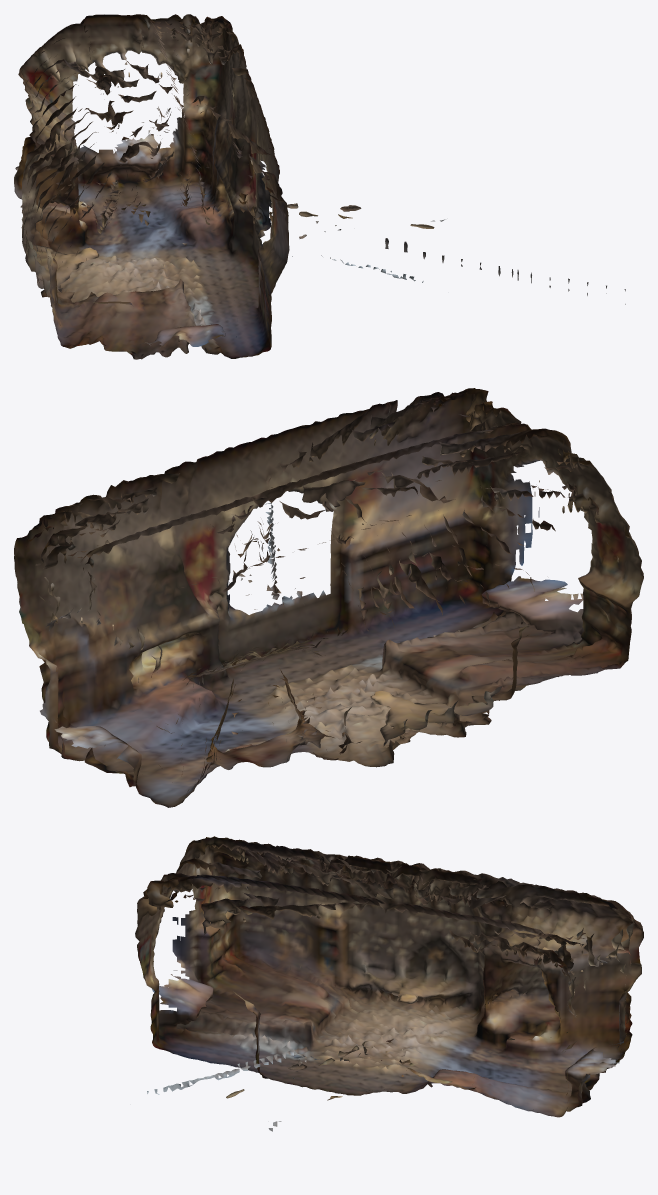
The model's file is Hogwarts_Castle_Magical_Bedroom_collider.glb.
3 views of the same model, one above another, from view 1: azimuth 30°, elevation 25°; view 2: azimuth 150°, elevation 25°; view 3: azimuth 270°, elevation 25° (orthographic). The views are drawn at different scales.
Visible parts, largest first — view 1: world; view 2: world; view 3: world.
Part boxes in pixels (bbox=[...]): world: bbox=[14, 14, 625, 359]; world: bbox=[14, 388, 643, 807]; world: bbox=[135, 836, 643, 1131].
Bounding box in the file's own units: 11.69 × 4.08 × 13.11.
